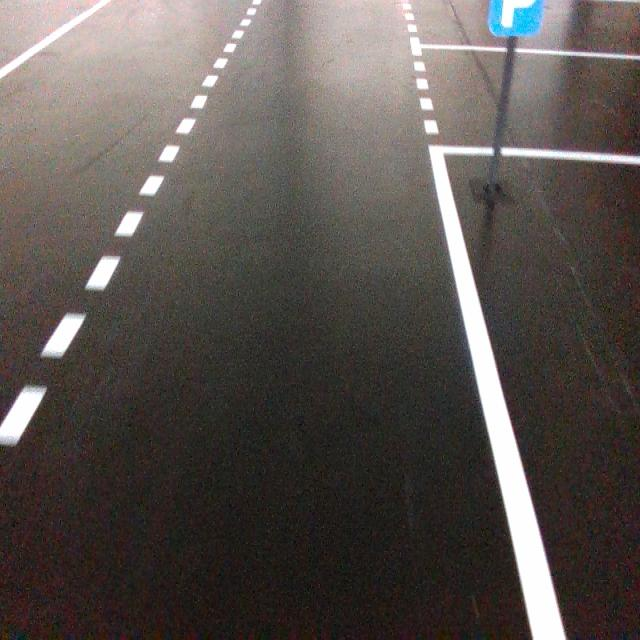parking-sign: (487, 0, 544, 38)
